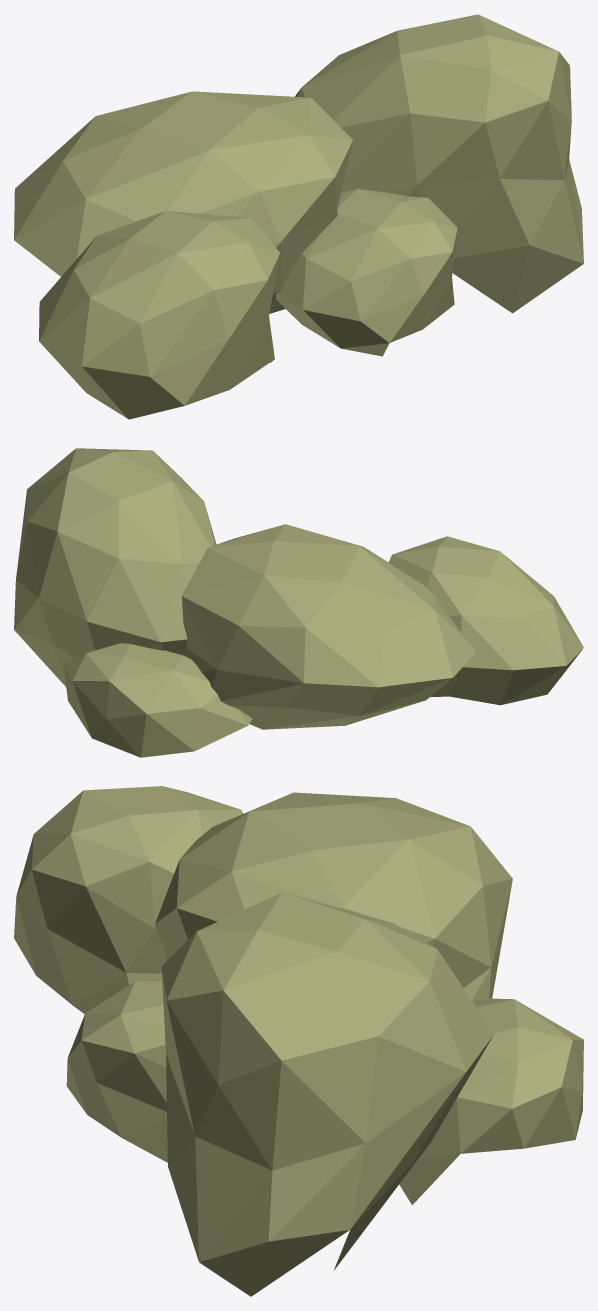
File: StoneRound.FBX
3 renders of one model, top to bottom at view 1: azimuth 30°, elevation 25°; view 2: azimuth 150°, elevation 25°; view 3: azimuth 270°, elevation 25°, orthographic. The views are drawn at different scales.
Parts seen in each view (by area): view 1: StoneRound; view 2: StoneRound; view 3: StoneRound.
Boxes of the visible parts, left/top/right/bottom form: StoneRound: left=14, top=14, right=583, bottom=419; StoneRound: left=14, top=448, right=583, bottom=757; StoneRound: left=14, top=786, right=583, bottom=1296.
Size of the model in its own units: 636 by 272 by 426.
